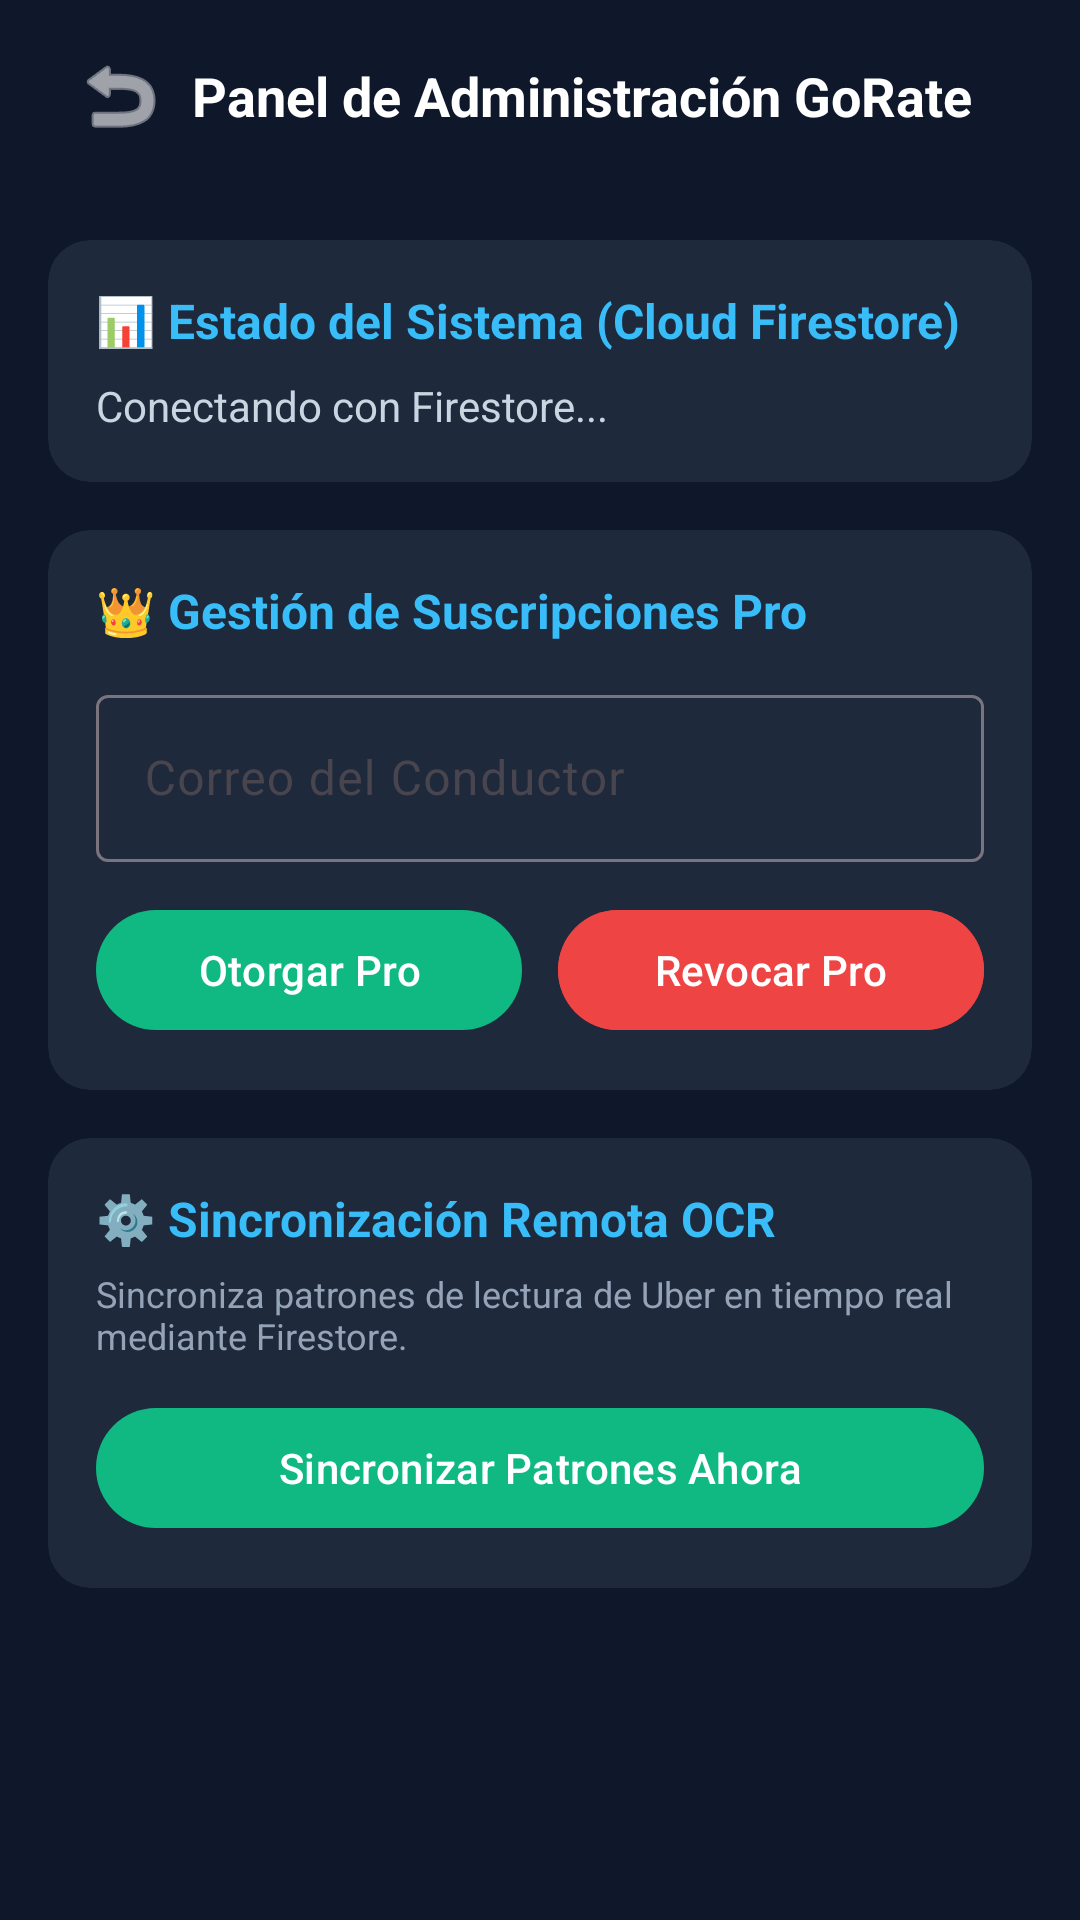

Named icons in this screenshot (1080×1920) and their centers, (x,y):
revert: (121,96)
